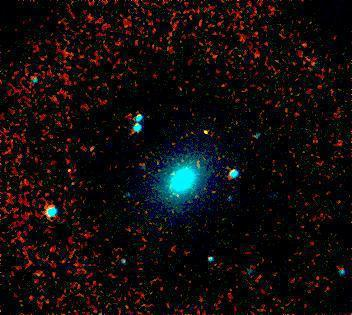star: (190, 118, 220, 148)
